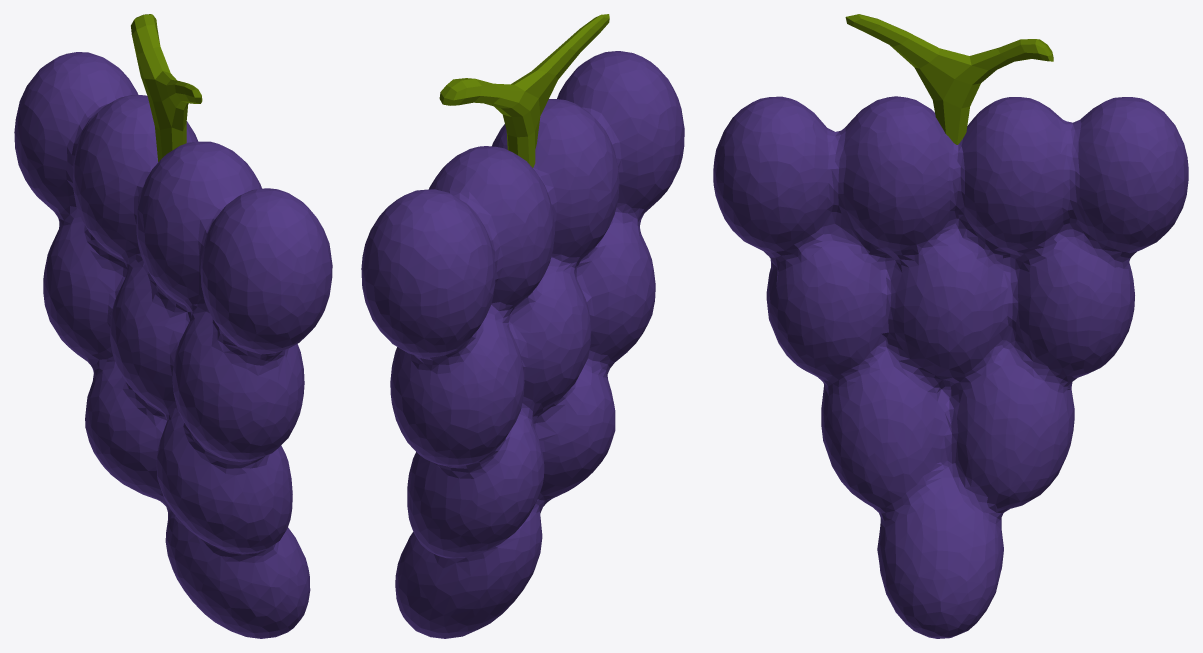
File: grape.fbx
3 views of the same model, side by side, from view 1: azimuth 30°, elevation 25°; view 2: azimuth 150°, elevation 25°; view 3: azimuth 270°, elevation 25° (orthographic). The views are drawn at different scales.
Parts seen in each view (by area): view 1: Grape; view 2: Grape; view 3: Grape.
Part boxes in pixels (bbox=[...]): Grape: bbox=[14, 14, 332, 638]; Grape: bbox=[361, 14, 684, 638]; Grape: bbox=[713, 14, 1188, 638].
Bounding box in the file's own units: 39.48 × 125 × 94.99.
